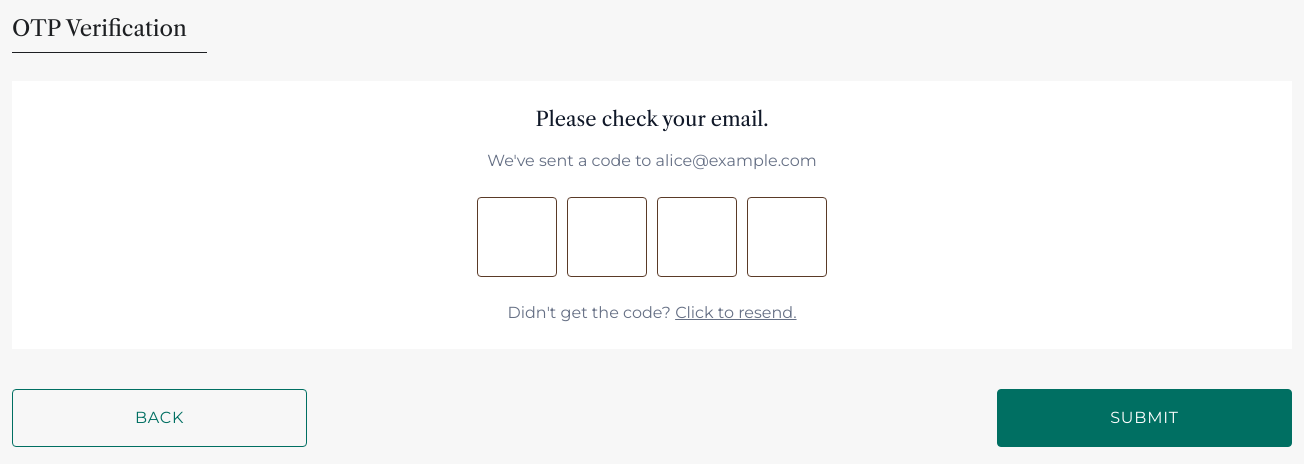
Test: Step3_OtpVerification › shows success message after submitting valid OTP
Click the button "Submit". click: x=1144, y=418
box: 997,389 -> 1292,447
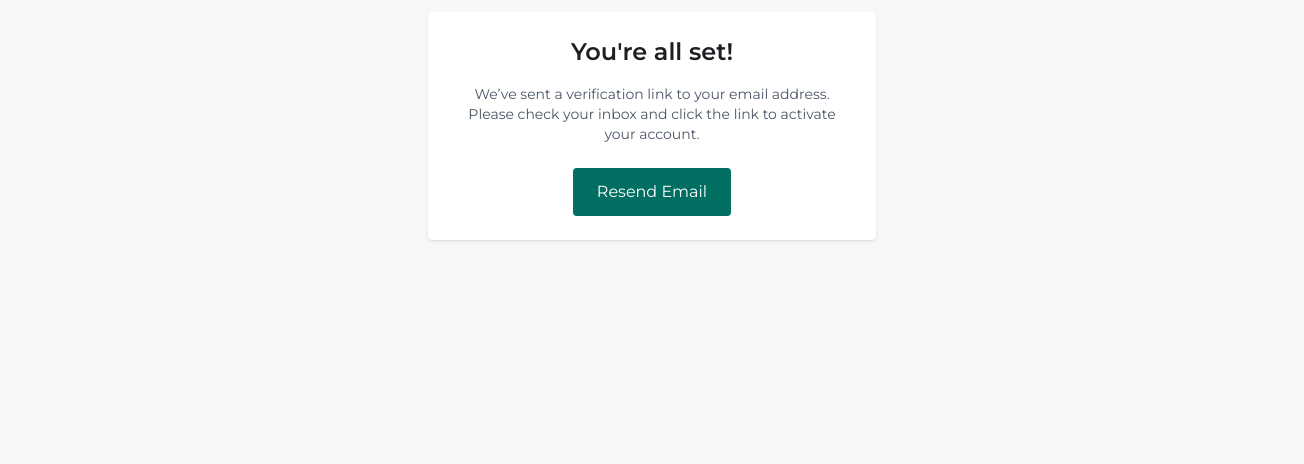
Check: the heading "You're all set!" is shown, box 571,37 -> 733,66
